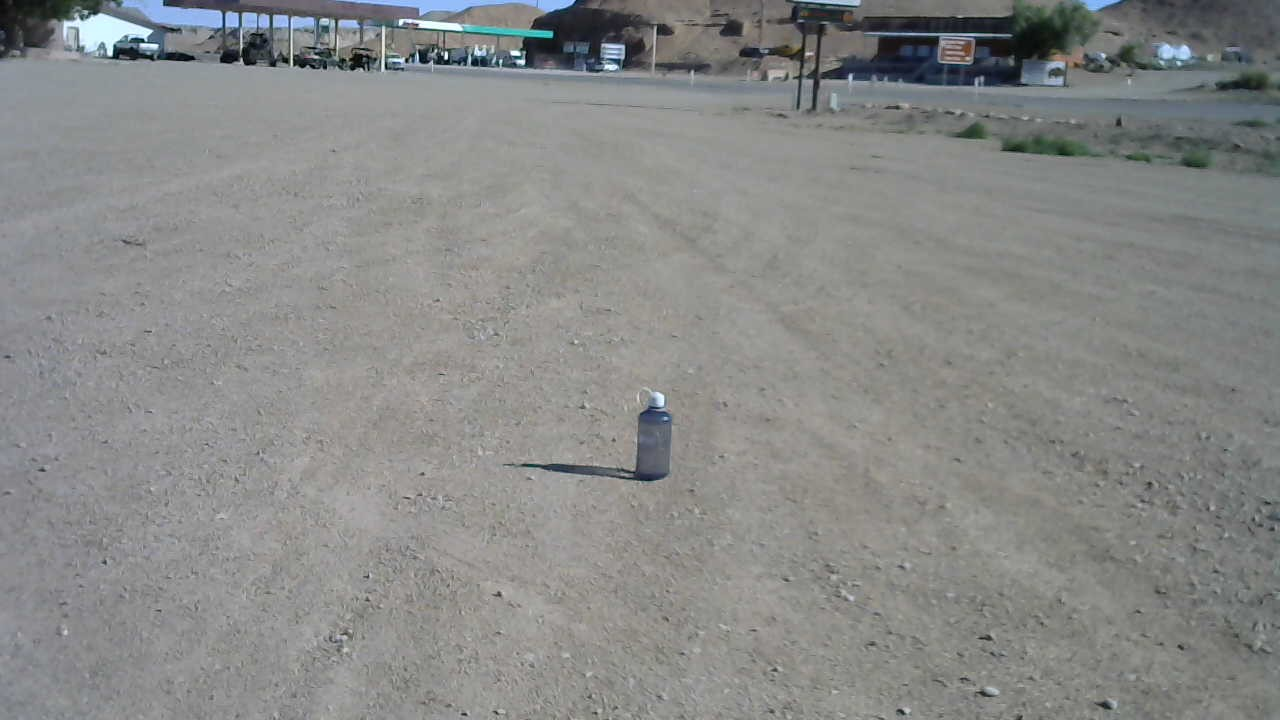bottle: (622, 384, 675, 485)
